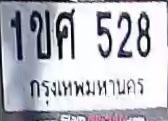1: (10, 11, 22, 60)
2: (116, 11, 132, 58)
5: (96, 10, 112, 58)
8: (136, 11, 151, 58)
A02: (28, 10, 50, 58)
A38: (55, 8, 75, 59)
BKK: (27, 75, 147, 105)
